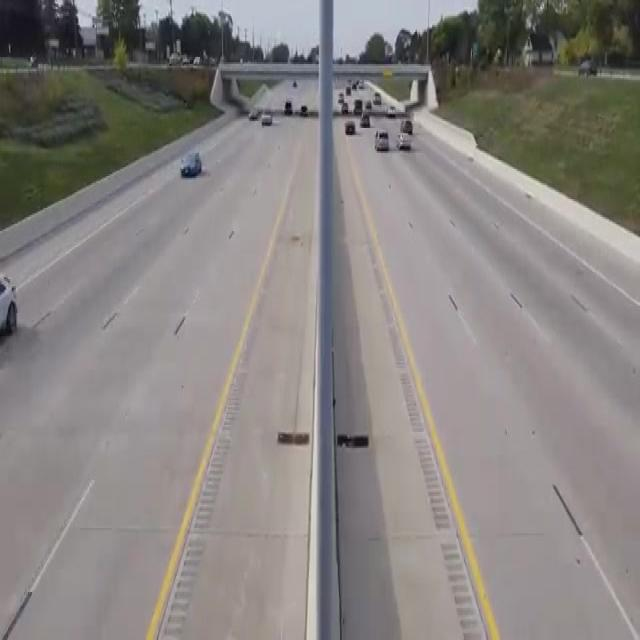car: (181, 147, 207, 185), (393, 132, 422, 158), (371, 127, 388, 160), (339, 117, 357, 140), (262, 110, 279, 134), (376, 102, 401, 118), (392, 124, 419, 136), (248, 104, 262, 124), (357, 112, 374, 125)
